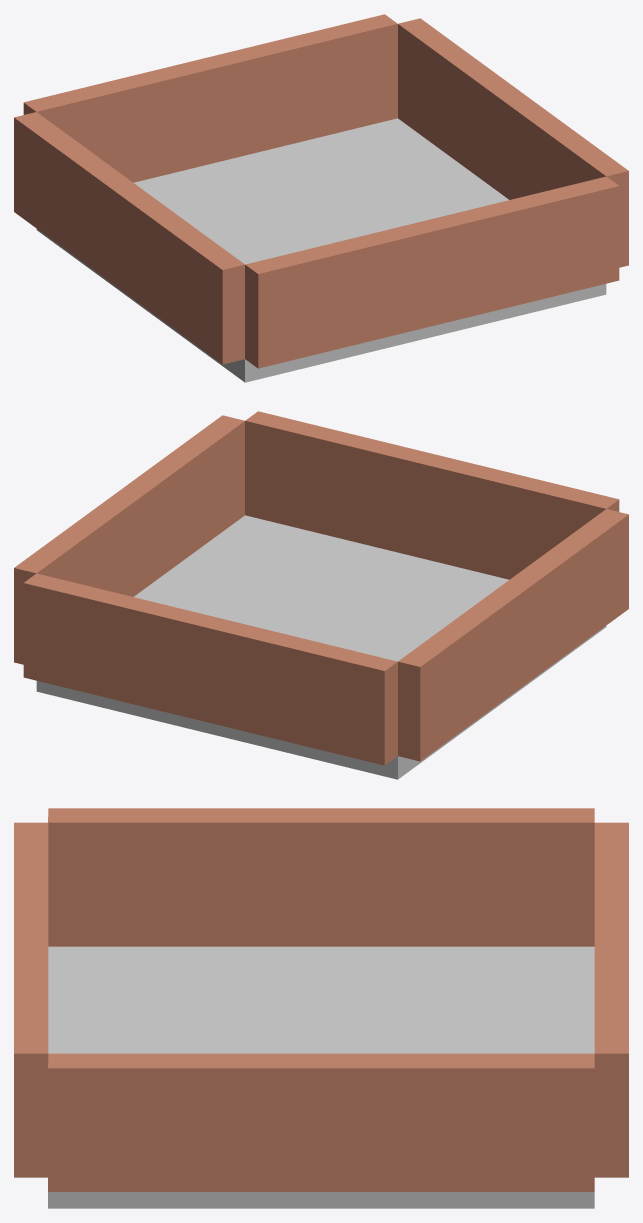
File: mapTestingFBX.fbx
The picture shows the model from 3 angles, top to bottom: view 1: azimuth 30°, elevation 25°; view 2: azimuth 150°, elevation 25°; view 3: azimuth 270°, elevation 25°; orthographic projection. The views are drawn at different scales.
Parts seen in each view (by area): view 1: Cube.002, Cube.003, Cube.001, Cube.004, Cube.005; view 2: Cube.003, Cube.002, Cube.001, Cube.004, Cube.005; view 3: Cube.005, Cube.004, Cube.001, Cube.003, Cube.002.
Boxes of the visible parts, x1,y1,x2,y2 form: Cube.002: (245,176,619,368); Cube.003: (23,14,397,182); Cube.001: (36,118,606,382); Cube.004: (14,112,244,364); Cube.005: (398,18,628,267); Cube.003: (23,573,397,765); Cube.002: (245,411,619,579); Cube.001: (36,515,606,779); Cube.004: (398,509,628,761); Cube.005: (14,415,244,664); Cube.005: (48,1053,594,1191); Cube.004: (48,808,594,946); Cube.001: (48,946,594,1208); Cube.003: (594,822,628,1177); Cube.002: (14,822,48,1177).
Bounding box in the file's own units: 1800 × 500 × 1800.
